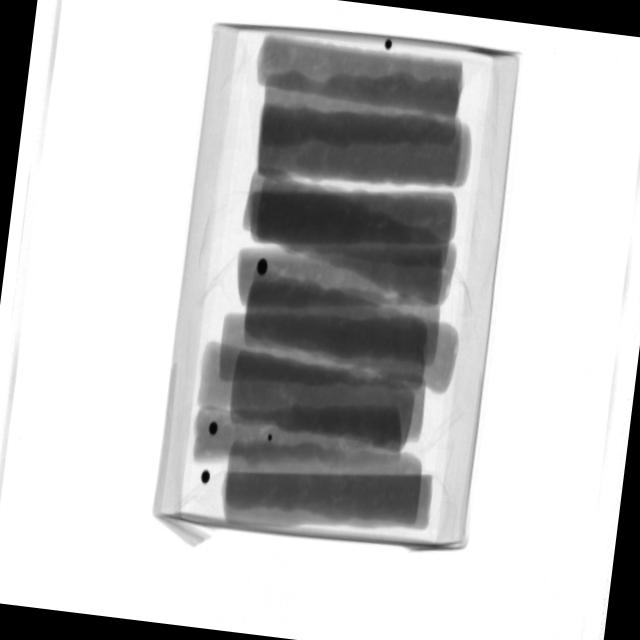ym: (256, 257, 269, 279), (208, 419, 219, 436), (200, 470, 211, 485), (383, 39, 393, 52), (267, 434, 274, 442)
